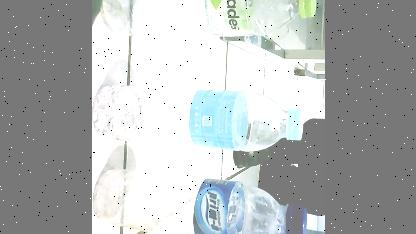Plastic Bottle: (92, 86, 302, 152), (91, 172, 309, 234), (99, 0, 316, 38)
